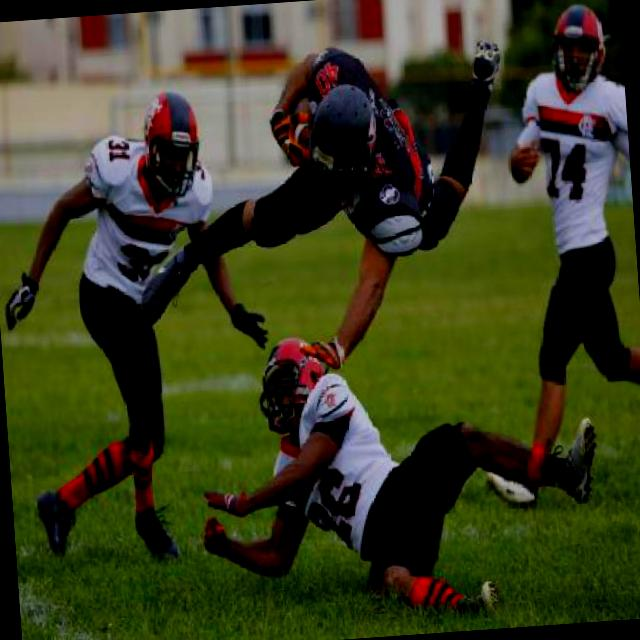Person: (180, 303, 616, 640), (0, 64, 235, 601), (461, 0, 640, 493)
